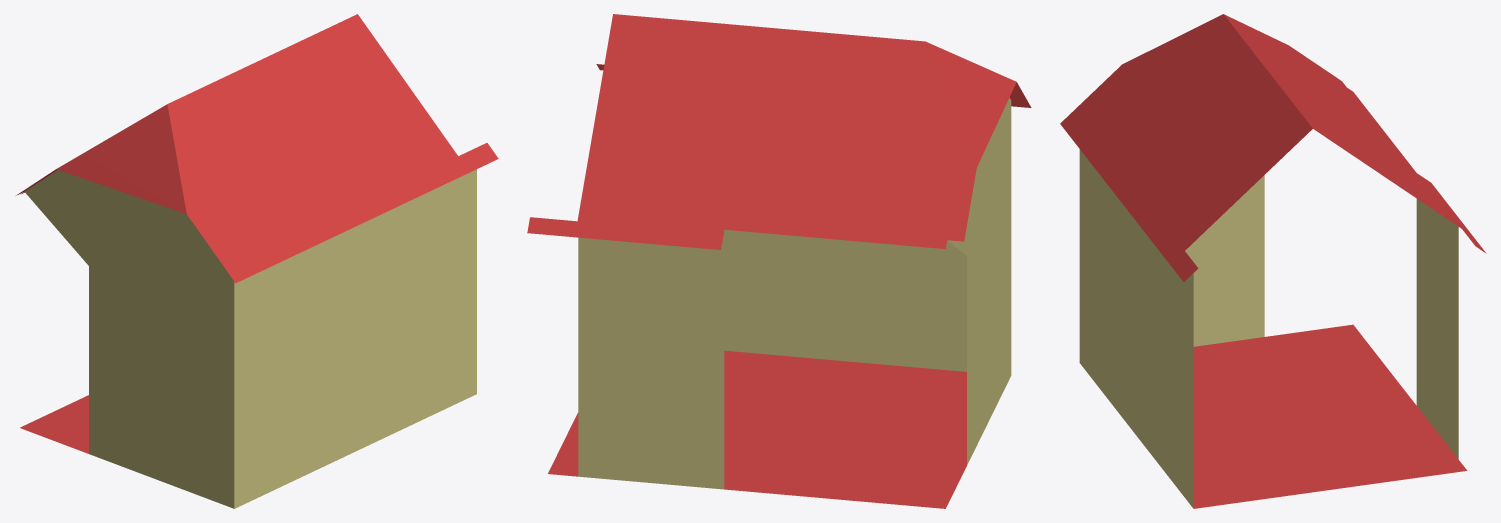
3 views of the same model, side by side, from view 1: azimuth 30°, elevation 25°; view 2: azimuth 150°, elevation 25°; view 3: azimuth 270°, elevation 25° (orthographic). The views are drawn at different scales.
Bounding box in the file's own units: 15.14 × 13.8 × 12.52.
